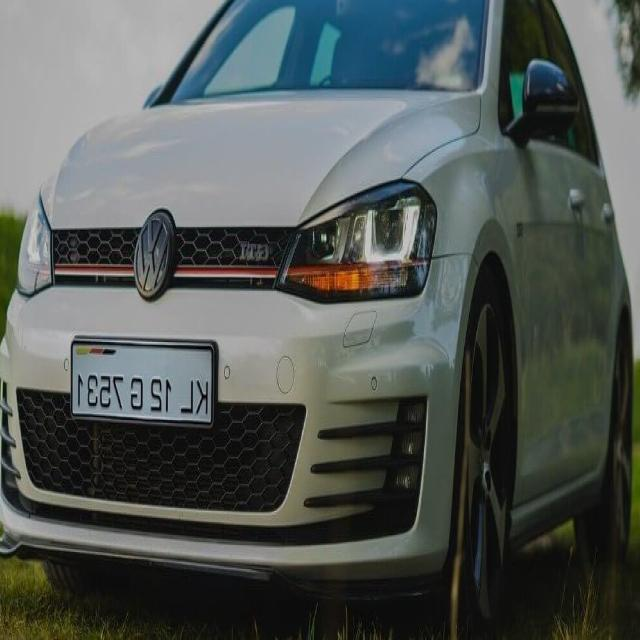number-plate: (64, 332, 220, 428)
